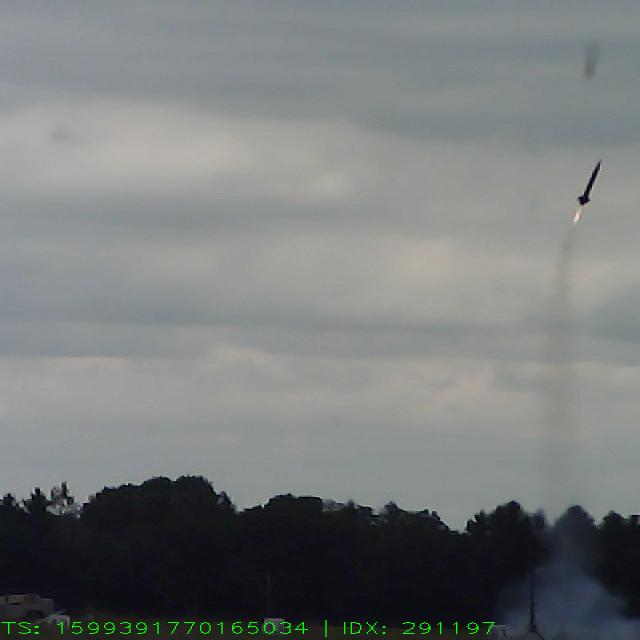Rocket: (576, 158, 604, 206)
